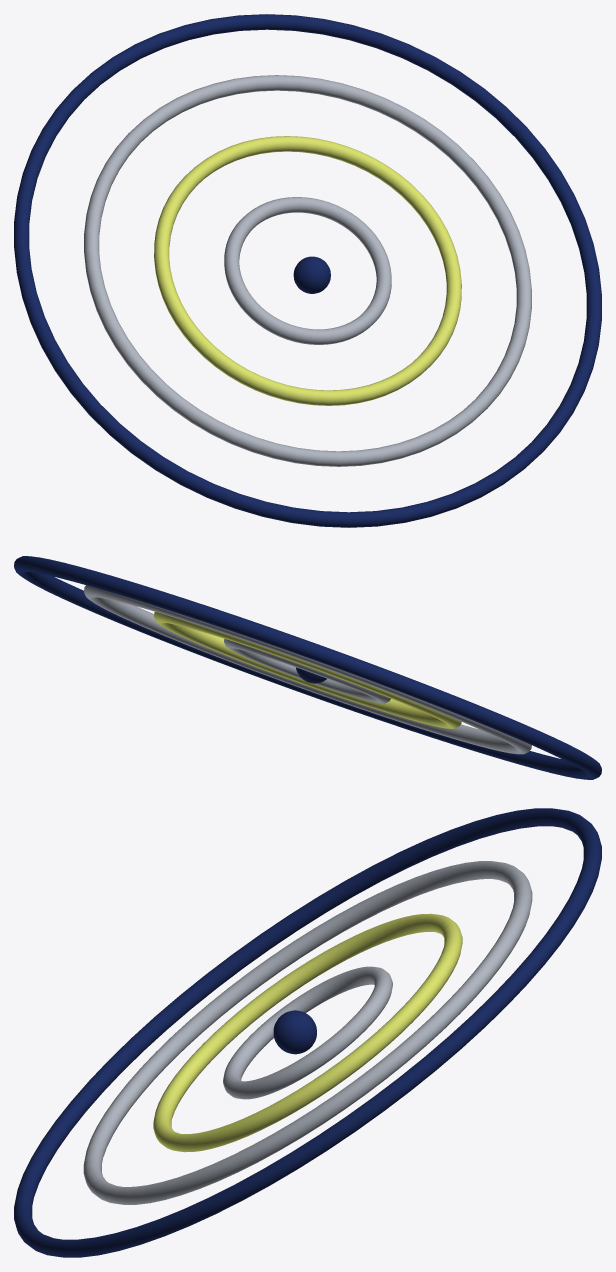
3 renders of one model, top to bottom at view 1: azimuth 30°, elevation 25°; view 2: azimuth 150°, elevation 25°; view 3: azimuth 270°, elevation 25°, orthographic. The views are drawn at different scales.
Parts seen in each view (by area): view 1: rounded metal arc (×4), ripple origin; view 2: rounded metal arc (×4); view 3: rounded metal arc (×4), ripple origin.
Part boxes in pixels (x1,y1,x2,y2): rounded metal arc (×4): [14, 14, 601, 527]; ripple origin: [293, 256, 330, 293]; rounded metal arc (×4): [14, 556, 601, 779]; rounded metal arc (×4): [14, 808, 601, 1257]; ripple origin: [273, 1010, 316, 1054].
Size of the model in its own units: 1.93 by 1.11 by 1.61.
